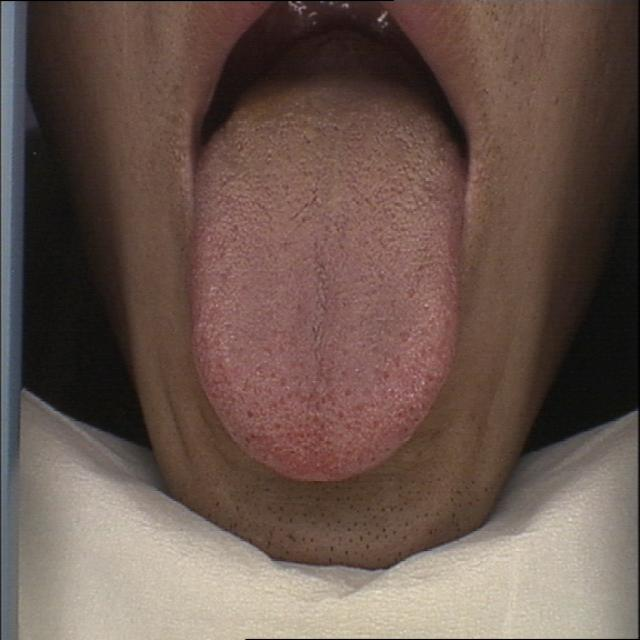tongue: (177, 91, 472, 490)
